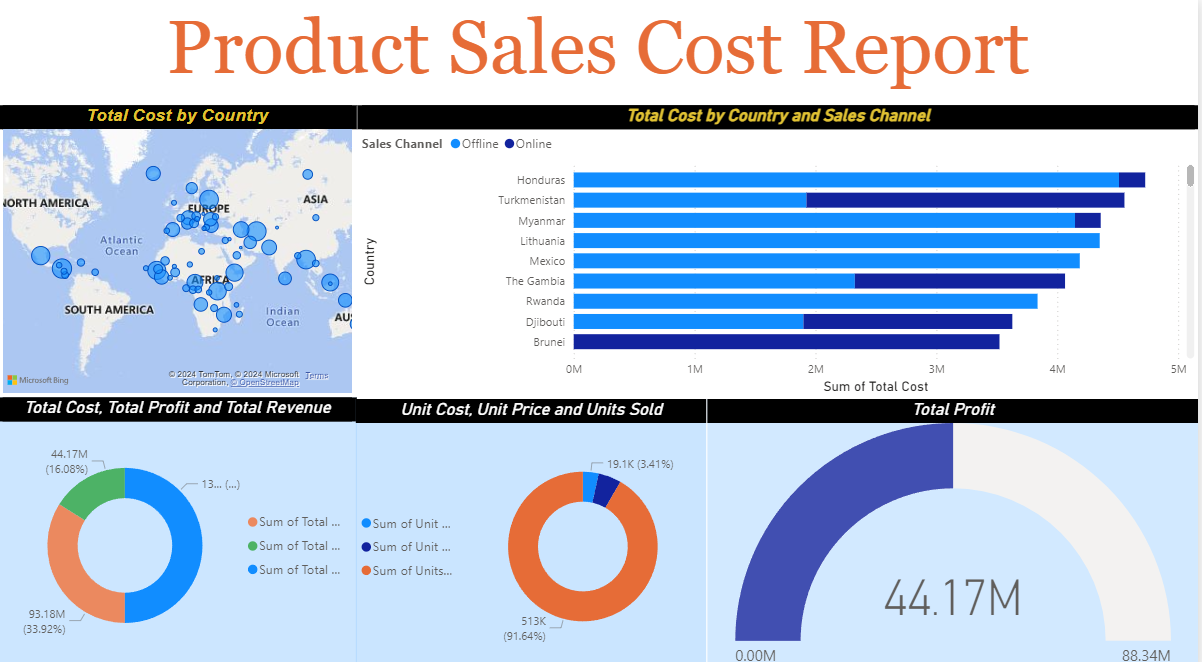

The dashboard page shown, as its layout file describes it:
{"tool":"powerbi","page":{"name":"Cost and Profit","canvas":[1280,720],"ordinal":0},"visuals":[{"type":"textbox","box":[0,0,1280,112.5],"z":0},{"type":"map","title":"Total Cost by Country","fields":{"Category":["Sheet1.Country"],"Size":["Sum(Sheet1.Total Cost)"]},"box":[0,112.5,382.5,312.5],"z":1},{"type":"barChart","title":"Total Cost by Country and Sales Channel","fields":{"Category":["Sheet1.Country"],"Y":["Sum(Sheet1.Total Cost)"],"Series":["Sheet1.Sales Channel"]},"box":[382.5,112.5,897.5,312.5],"z":2},{"type":"donutChart","title":"Total Cost, Total Profit and Total Revenue","fields":{"Y":["Sum(Sheet1.Total Cost)","Sum(Sheet1.Total Profit)","Sum(Sheet1.Total Revenue)"]},"box":[0,425,382.5,295],"z":3},{"type":"donutChart","title":"Unit Cost, Unit Price and Units Sold","fields":{"Y":["Sum(Sheet1.Unit Cost)","Sum(Sheet1.Unit Price)","Sum(Sheet1.Units Sold)"]},"box":[382,426,374,294],"z":4},{"type":"gauge","title":"Total Profit","fields":{"Y":["Sum(Sheet1.Total Profit)"]},"box":[756,426,524,294],"z":5}]}

Visuals, with their boxes in screenshot pixels (x1, y1, x2, y2), scaled from the page's 1280x720 canvas onto the 1202x662 screenshot:
textbox: detection(0, 0, 1201, 103)
"Total Cost by Country" map: detection(0, 103, 359, 391)
"Total Cost by Country and Sales Channel" barChart: detection(359, 103, 1201, 391)
"Total Cost, Total Profit and Total Revenue" donutChart: detection(0, 391, 359, 661)
"Unit Cost, Unit Price and Units Sold" donutChart: detection(359, 392, 710, 661)
"Total Profit" gauge: detection(710, 392, 1201, 661)
